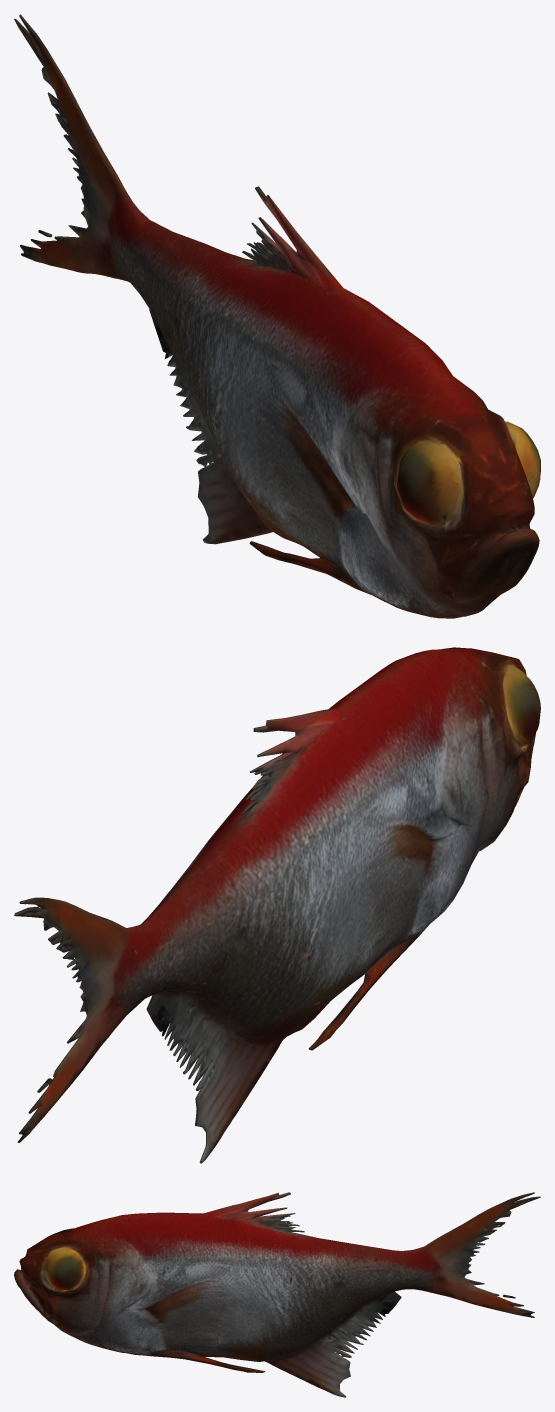
File: alfonsino.glb
3 views of the same model, one above another, from view 1: azimuth 30°, elevation 25°; view 2: azimuth 150°, elevation 25°; view 3: azimuth 270°, elevation 25° (orthographic). The views are drawn at different scales.
Visible parts, largest first — view 1: geometry_0; view 2: geometry_0; view 3: geometry_0.
Boxes of the visible parts, bbox=[...] form: geometry_0: bbox=[14, 14, 540, 618]; geometry_0: bbox=[14, 647, 540, 1163]; geometry_0: bbox=[14, 1192, 540, 1397].
Bounding box in the file's own units: 0.1506 × 0.429 × 0.9995.
1 material, 1 textured.
